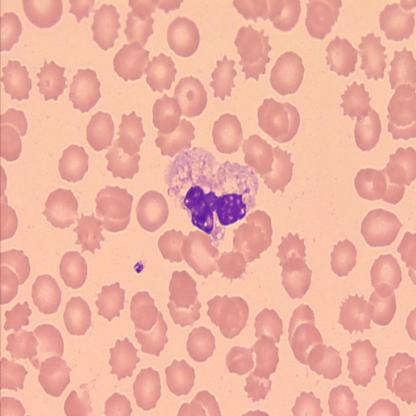Segmented neutrophil: (162, 143, 260, 249)
